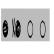correct: (2, 17, 9, 39)
not correct: (11, 14, 22, 42)
